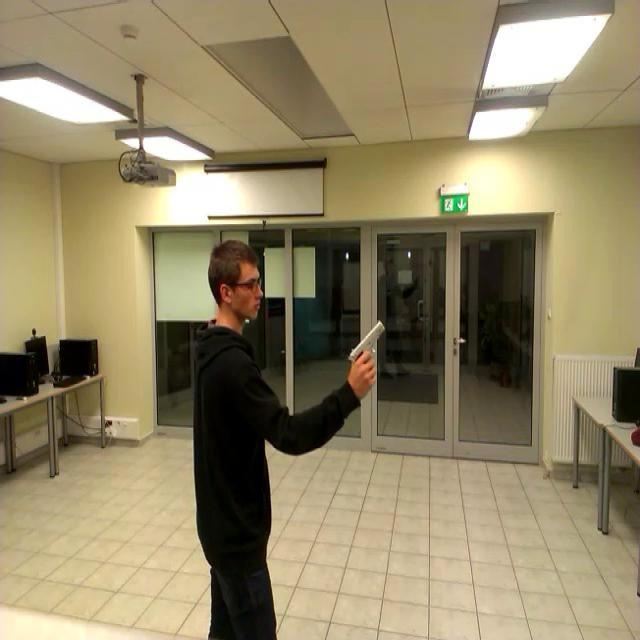weapon: (348, 325, 384, 379)
